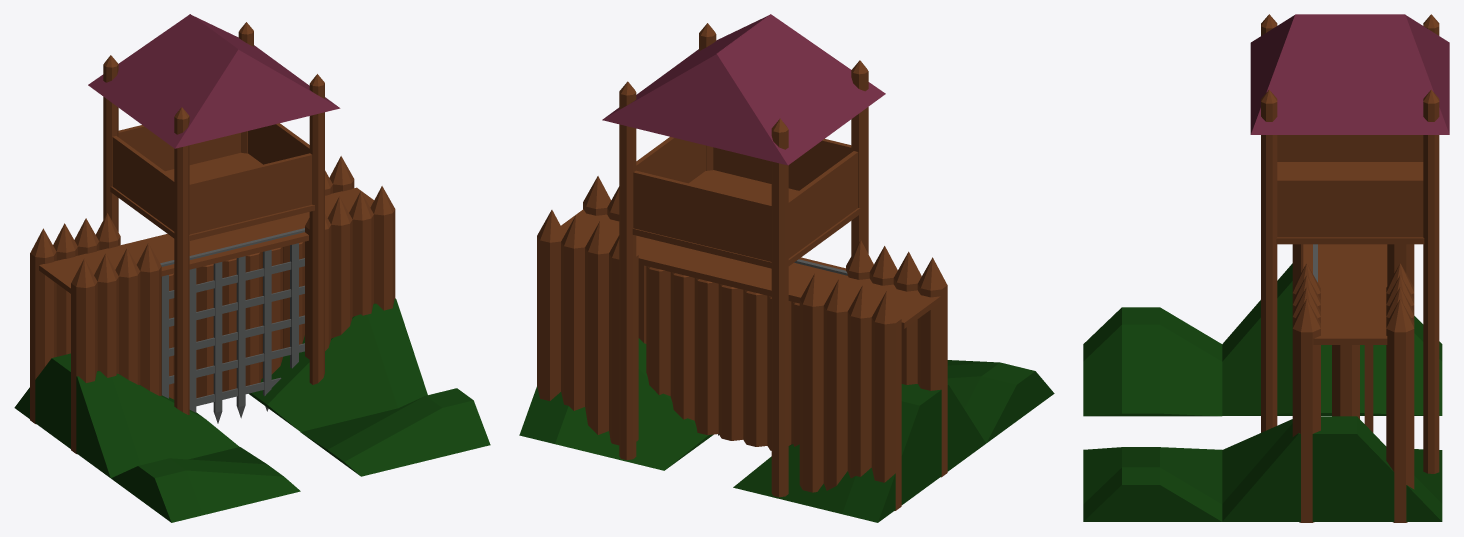
Rendered from Gate - Wood.fbx.
3 views of the same model, side by side, from view 1: azimuth 30°, elevation 25°; view 2: azimuth 150°, elevation 25°; view 3: azimuth 270°, elevation 25° (orthographic). The views are drawn at different scales.
Parts seen in each view (by area): view 1: Tower_006, Rampart_009, Palisade_003, Cover_007, Ditch_Wall_007, Portculis_002, Gate_002, Fortification_001, Walkway_003; view 2: Fortification_001, Tower_006, Cover_007, Gate_002, Rampart_009, Palisade_003, Walkway_003, Ditch_Wall_007; view 3: Tower_006, Rampart_009, Ditch_Wall_007, Cover_007, Walkway_003, Fortification_001, Palisade_003, Gate_002.
Boxes of the visible parts, box(x1,y1,x2,y2) form: Tower_006: box(103, 22, 324, 414); Rampart_009: box(14, 298, 427, 478); Palisade_003: box(71, 186, 395, 454); Cover_007: box(88, 14, 340, 148); Ditch_Wall_007: box(111, 388, 490, 522); Portculis_002: box(160, 228, 304, 423); Gate_002: box(169, 241, 304, 399); Fortification_001: box(30, 156, 354, 424); Walkway_003: box(39, 187, 373, 293); Fortification_001: box(537, 210, 901, 510); Tower_006: box(619, 23, 868, 497); Cover_007: box(602, 14, 885, 165); Gate_002: box(646, 266, 799, 450); Rampart_009: box(519, 338, 985, 522); Palisade_003: box(583, 176, 947, 477); Walkway_003: box(561, 209, 940, 328); Ditch_Wall_007: box(947, 360, 1054, 443); Tower_006: box(1261, 14, 1439, 473); Rampart_009: box(1222, 263, 1442, 521); Ditch_Wall_007: box(1083, 307, 1222, 521); Cover_007: box(1250, 14, 1449, 134); Walkway_003: box(1303, 244, 1387, 432); Fortification_001: box(1386, 244, 1414, 522); Palisade_003: box(1292, 244, 1320, 522); Gate_002: box(1332, 345, 1359, 418).
Size of the model in its own units: 10 by 11.33 by 8.71.
